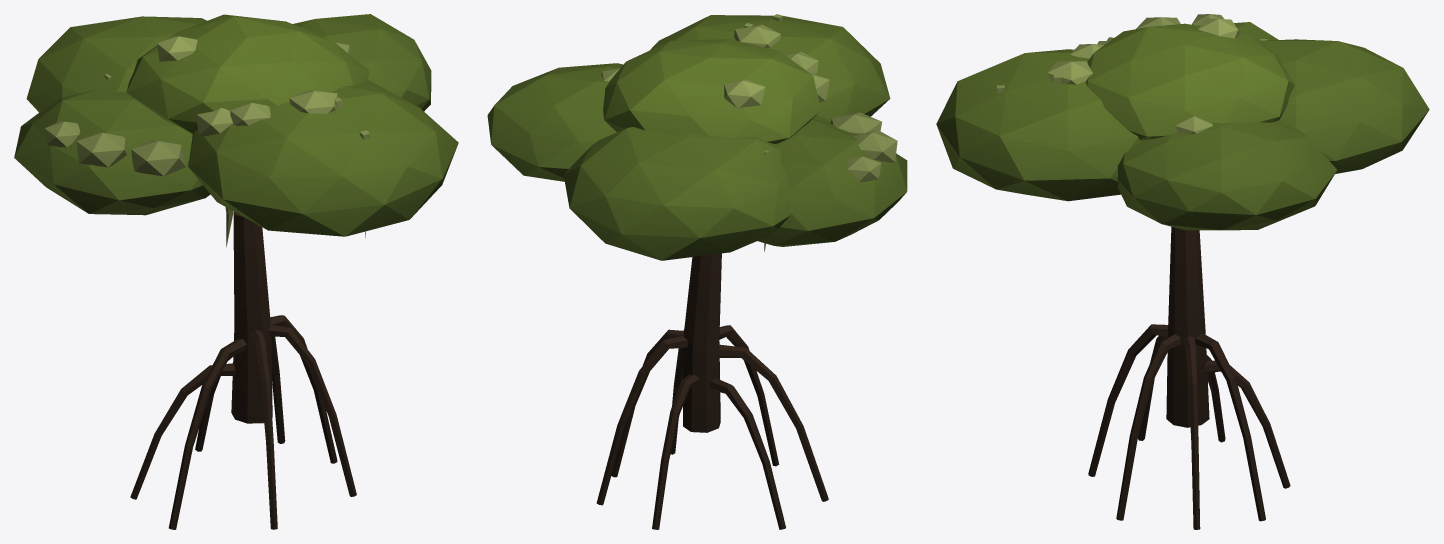
Rendered from tree_mangrove_01.fbx.
The picture shows the model from 3 angles, left to right: view 1: azimuth 30°, elevation 25°; view 2: azimuth 150°, elevation 25°; view 3: azimuth 270°, elevation 25°; orthographic projection. The views are drawn at different scales.
Parts seen in each view (by area): view 1: tree_mangrove_01_LOD0; view 2: tree_mangrove_01_LOD0; view 3: tree_mangrove_01_LOD0.
Part boxes in pixels (x1=…): tree_mangrove_01_LOD0: x1=14, y1=14, x2=458, y2=529; tree_mangrove_01_LOD0: x1=487, y1=14, x2=907, y2=529; tree_mangrove_01_LOD0: x1=936, y1=14, x2=1429, y2=529.
Size of what is drawn, in the model's own units: 3.84 by 4.21 by 4.25.
Materials: 1 (1 with a texture image).
